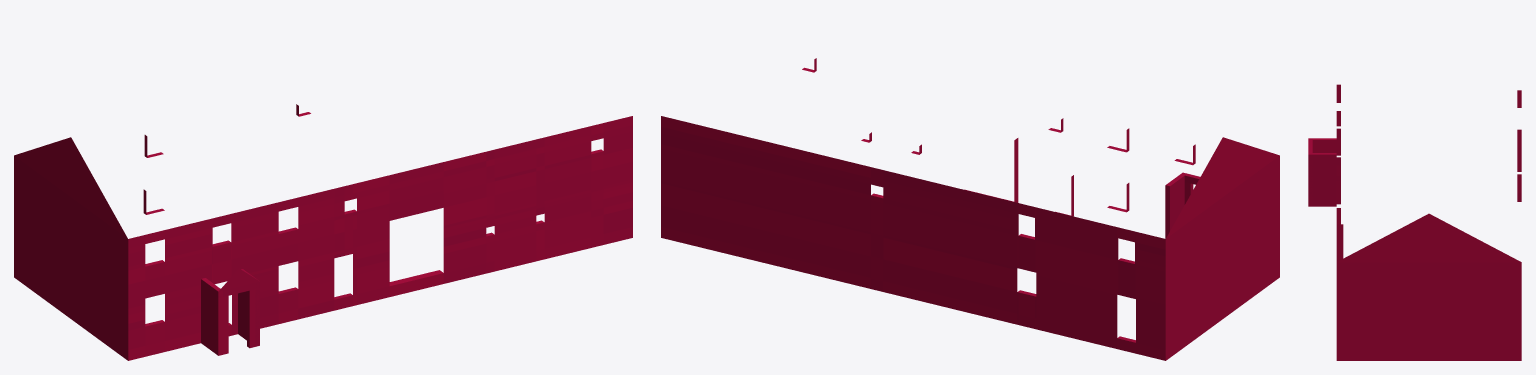
The model's file is SM_Bld_174_Masonry.glb.
3 views of the same model, side by side, from view 1: azimuth 30°, elevation 25°; view 2: azimuth 150°, elevation 25°; view 3: azimuth 270°, elevation 25° (orthographic). The views are drawn at different scales.
Visible parts, largest first — view 1: SM_Bld_174_Masonry; view 2: SM_Bld_174_Masonry; view 3: SM_Bld_174_Masonry.
Boxes of the visible parts, <box> form: SM_Bld_174_Masonry: <box>14,104,632,360</box>; SM_Bld_174_Masonry: <box>661,58,1279,360</box>; SM_Bld_174_Masonry: <box>1308,84,1521,360</box>.
Size of the model in its own units: 24.25 by 8.36 by 10.95.
